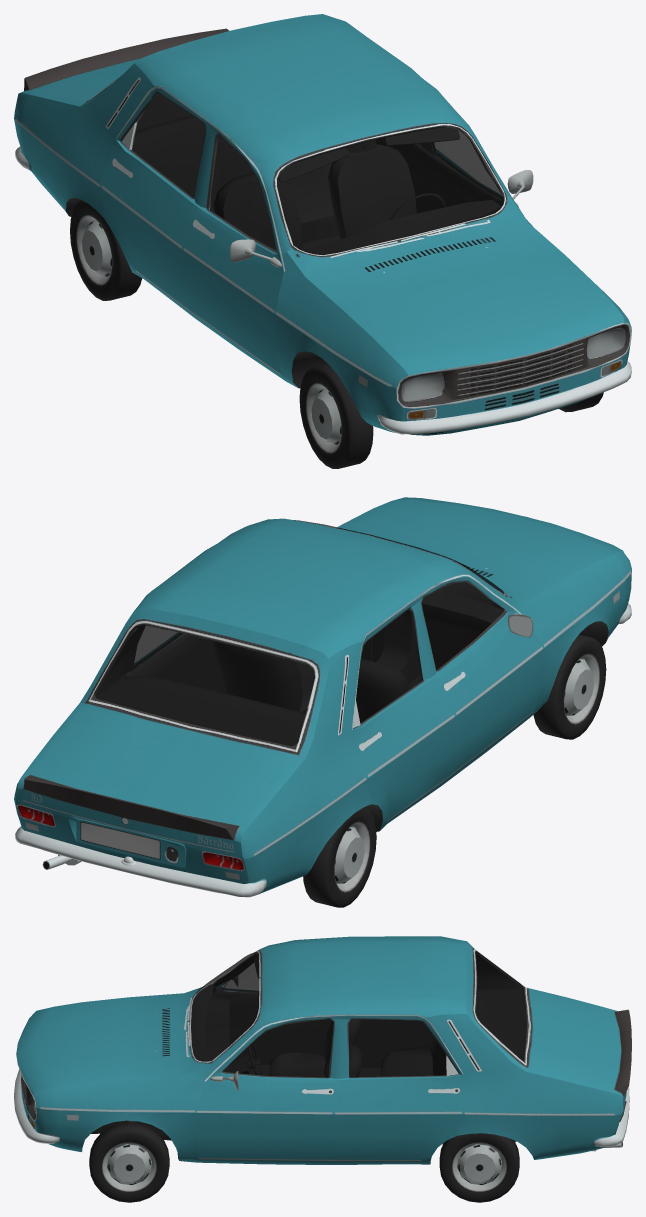
File: dacia.glb
The picture shows the model from 3 angles, top to bottom: view 1: azimuth 30°, elevation 25°; view 2: azimuth 150°, elevation 25°; view 3: azimuth 270°, elevation 25°; orthographic projection. The views are drawn at different scales.
Parts seen in each view (by area): view 1: DaciaBody, DaciaWheelFR, DaciaWheelRR; view 2: DaciaBody, DaciaWheelFR, DaciaWheelRR; view 3: DaciaBody, DaciaWheelFL, DaciaWheelRL.
Part boxes in pixels (left/top/right/bottom): DaciaBody: left=14, top=14, right=631, bottom=435; DaciaWheelFR: left=299, top=363, right=373, bottom=468; DaciaWheelRR: left=70, top=200, right=142, bottom=300; DaciaBody: left=14, top=497, right=631, bottom=897; DaciaWheelFR: left=533, top=634, right=606, bottom=739; DaciaWheelRR: left=303, top=807, right=376, bottom=907; DaciaBody: left=14, top=936, right=631, bottom=1164; DaciaWheelFL: left=89, top=1122, right=169, bottom=1202; DaciaWheelRL: left=439, top=1133, right=519, bottom=1202.
Bounding box in the file's own units: 1.93 × 1.51 × 4.47.
3 materials, 1 textured.
